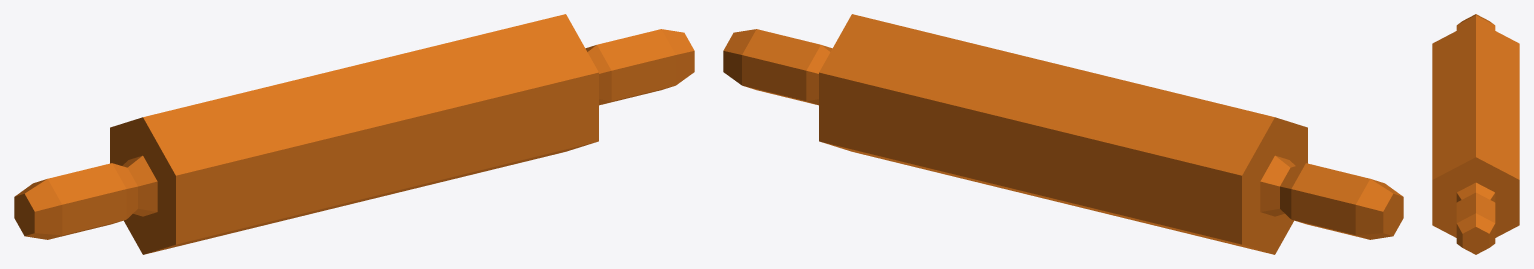
Rendered from rollingPin2_PLY.fbx.
3 renders of one model, left to right at view 1: azimuth 30°, elevation 25°; view 2: azimuth 150°, elevation 25°; view 3: azimuth 270°, elevation 25°, orthographic. The views are drawn at different scales.
Visible parts, largest first — view 1: rollingPin2_PLY; view 2: rollingPin2_PLY; view 3: rollingPin2_PLY.
Boxes of the visible parts, left/top/right/bottom form: rollingPin2_PLY: left=14, top=14, right=694, bottom=254; rollingPin2_PLY: left=723, top=14, right=1403, bottom=254; rollingPin2_PLY: left=1432, top=14, right=1519, bottom=254.
Bounding box in the file's own units: 2.51 × 0.5 × 0.433.
